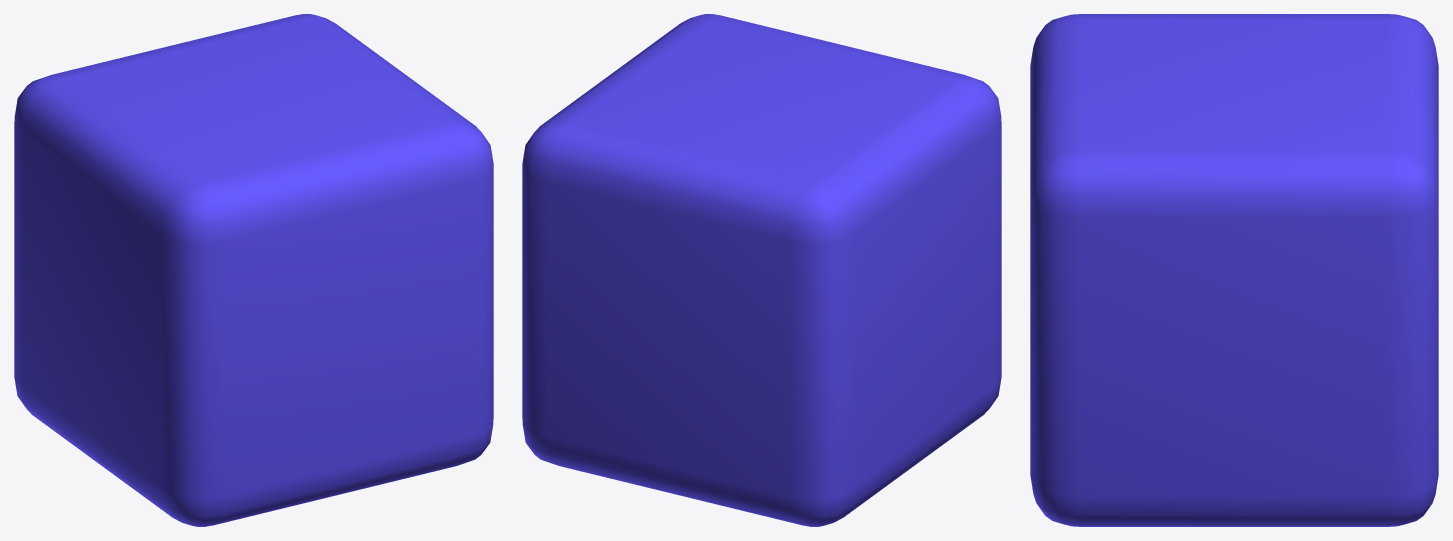
File: Rotator_Cube_01.FBX
The picture shows the model from 3 angles, left to right: view 1: azimuth 30°, elevation 25°; view 2: azimuth 150°, elevation 25°; view 3: azimuth 270°, elevation 25°; orthographic projection. The views are drawn at different scales.
Parts seen in each view (by area): view 1: Rotator_Cube_01; view 2: Rotator_Cube_01; view 3: Rotator_Cube_01.
Boxes of the visible parts, box(x1,y1,x2,y2) form: Rotator_Cube_01: box(14, 14, 493, 526); Rotator_Cube_01: box(522, 14, 1001, 526); Rotator_Cube_01: box(1030, 14, 1438, 526).
Size of the model in its own units: 2 by 2 by 2.
